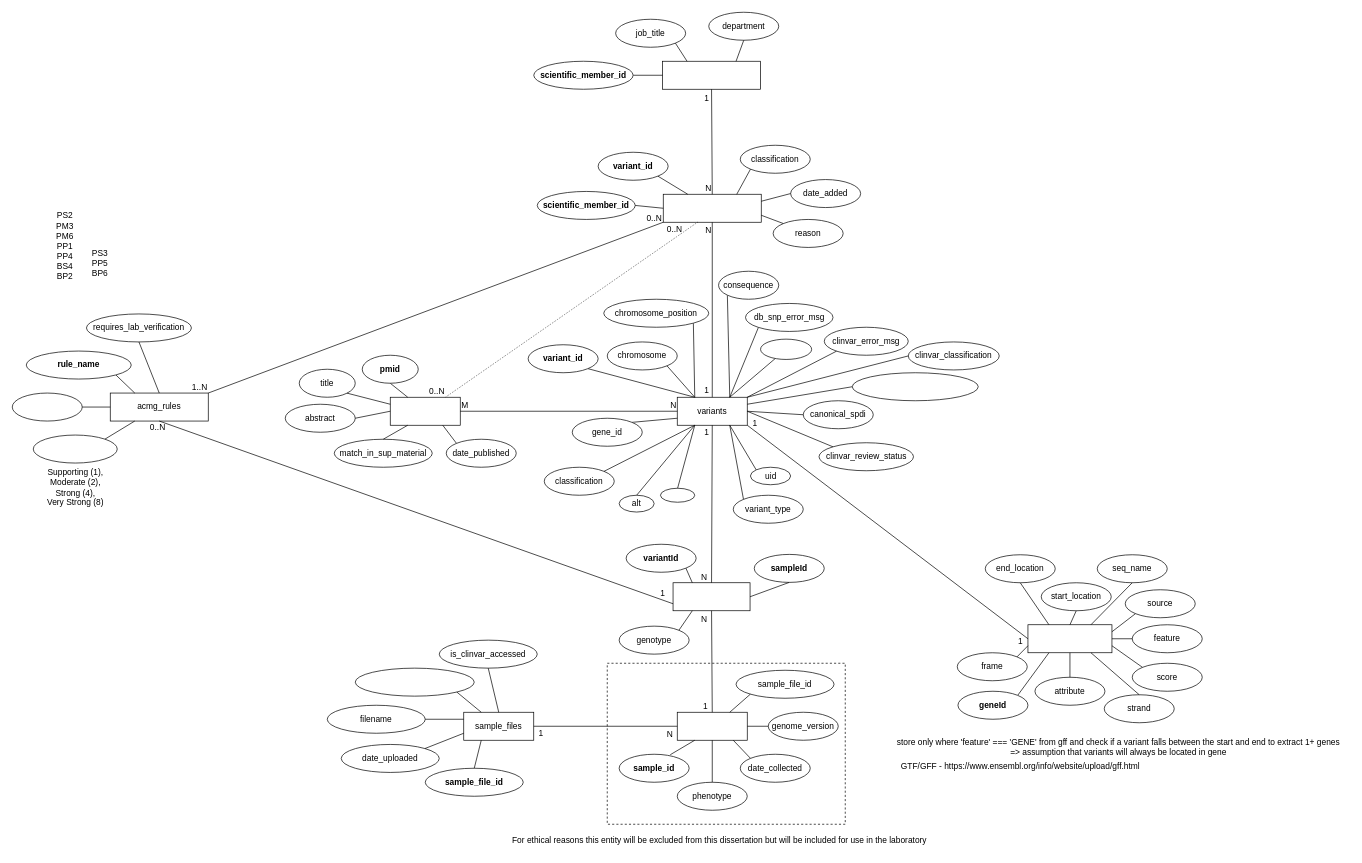
This 1362x863 diagram has some shape labels left out. The box of each missing label's shape, as (x1, y1, x2, y2) in pixels:
are_rsids_retrieved: (355, 667, 474, 696)
classification_last_evaluated: (852, 372, 978, 401)
classification_overrides: (663, 194, 761, 222)
default_strength: (33, 434, 117, 463)
description: (12, 392, 82, 421)
gene_annotations: (1027, 624, 1112, 653)
publications: (390, 397, 460, 425)
ref: (660, 488, 695, 502)
rsid: (760, 338, 812, 359)
samples: (677, 712, 747, 740)
scientific_members: (662, 61, 761, 89)
variants_samples: (672, 582, 750, 611)
